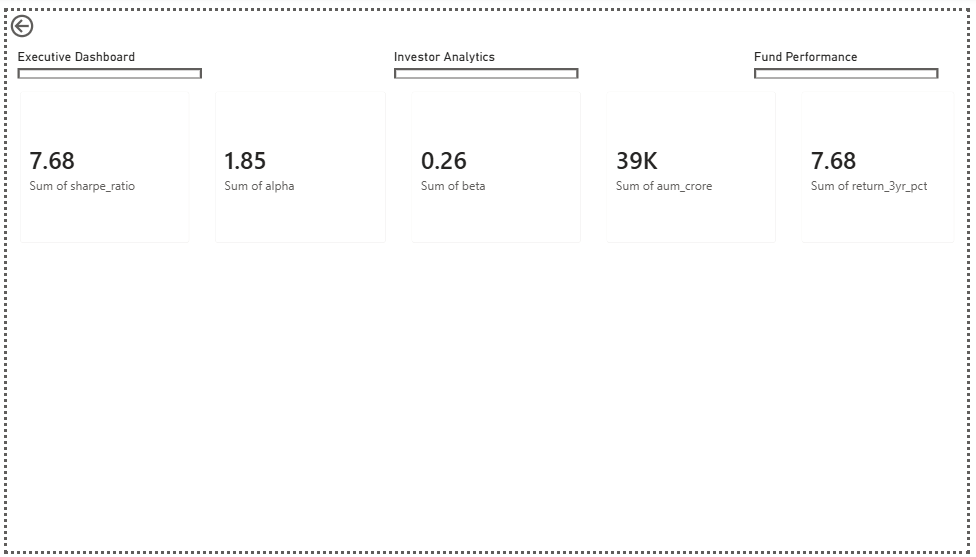

What the dashboard file says about the page in this screenshot:
{"tool":"powerbi","page":{"name":"Fund Details","canvas":[1280,720],"ordinal":3},"visuals":[{"type":"actionButton","box":[0,0,100,40],"z":0},{"type":"cardVisual","fields":{"Data":["Sum(clean_scheme_performance.sharpe_ratio)"]},"box":[0,90,260,236],"z":1},{"type":"cardVisual","fields":{"Data":["Sum(clean_scheme_performance.alpha)"]},"box":[260,90,262,236],"z":2},{"type":"cardVisual","fields":{"Data":["Sum(clean_scheme_performance.beta)"]},"box":[522,90,260,236],"z":3},{"type":"cardVisual","fields":{"Data":["Sum(clean_scheme_performance.return_3yr_pct)"]},"box":[1042,90,238,236],"z":4},{"type":"cardVisual","fields":{"Data":["Sum(clean_scheme_performance.aum_crore)"]},"box":[782,90,260,236],"z":5},{"type":"actionButton","title":"Executive Dashboard","box":[14,50,246,40],"z":6},{"type":"actionButton","title":"Fund Performance","box":[996,50,246,40],"z":7},{"type":"actionButton","title":"Investor Analytics","box":[516,50,246,40],"z":8}]}

Visuals, with their boxes in screenshot pixels (x1, y1, x2, y2), scaled from the page's 1280x720 canvas onto the 976x557 screenshot:
actionButton: 0:0:76:31
cardVisual - Sum(clean_scheme_performance.sharpe_ratio): 0:70:198:252
cardVisual - Sum(clean_scheme_performance.alpha): 198:70:398:252
cardVisual - Sum(clean_scheme_performance.beta): 398:70:596:252
cardVisual - Sum(clean_scheme_performance.return_3yr_pct): 795:70:975:252
cardVisual - Sum(clean_scheme_performance.aum_crore): 596:70:795:252
"Executive Dashboard" actionButton: 11:39:198:70
"Fund Performance" actionButton: 759:39:947:70
"Investor Analytics" actionButton: 393:39:581:70
